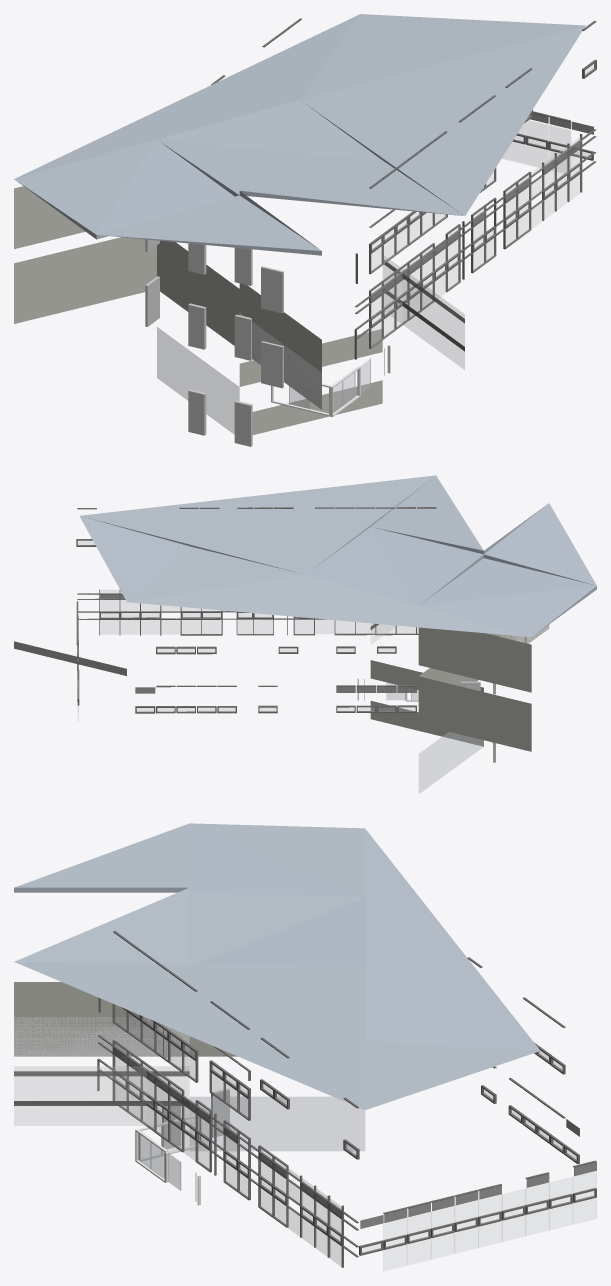
Rendered from pt-111-puesto-mando-shell-p01-v00.glb.
The picture shows the model from 3 angles, top to bottom: view 1: azimuth 30°, elevation 25°; view 2: azimuth 150°, elevation 25°; view 3: azimuth 270°, elevation 25°; orthographic projection. The views are drawn at different scales.
Visible parts, largest first — view 1: object 5, object 1, object 2, 3ioDEoahHCkv_6SYuJ4ZAV, 0nQIrlJzzFI8NX_dCCofL4, 1wMK2SYVT58xjKWZulY_vP, 1iMmaQhIvEGOZznnch$208, 0Eoh26nKPAUfThwFjukyFs, 1iMmaQhIvEGOZznnch$209, 0iETQbyE963AVzBjGTvqFN, 2tE$VhLkrEvu2KToKUG4Qr; view 2: object 5, object 1, object 4; view 3: object 5, object 1, object 2, object 4, object 3, 0Eoh26nKPAUfThwFjukyFs.
Part boxes in pixels (bbox=[...]): object 5: bbox=[14, 14, 585, 255]; object 1: bbox=[14, 186, 382, 434]; object 2: bbox=[383, 256, 464, 369]; 3ioDEoahHCkv_6SYuJ4ZAV: bbox=[261, 341, 283, 388]; 0nQIrlJzzFI8NX_dCCofL4: bbox=[261, 266, 283, 313]; 1wMK2SYVT58xjKWZulY_vP: bbox=[234, 400, 252, 446]; 1iMmaQhIvEGOZznnch$208: bbox=[188, 303, 206, 349]; 0Eoh26nKPAUfThwFjukyFs: bbox=[188, 389, 206, 435]; 1iMmaQhIvEGOZznnch$209: bbox=[234, 314, 252, 360]; 0iETQbyE963AVzBjGTvqFN: bbox=[234, 247, 252, 285]; 2tE$VhLkrEvu2KToKUG4Qr: bbox=[145, 276, 159, 326]; object 5: bbox=[79, 475, 596, 637]; object 1: bbox=[370, 624, 549, 793]; object 4: bbox=[14, 641, 126, 675]; object 5: bbox=[14, 823, 540, 1109]; object 1: bbox=[14, 982, 364, 1150]; object 2: bbox=[14, 1066, 189, 1125]; object 4: bbox=[14, 1071, 189, 1076]; object 3: bbox=[14, 1101, 181, 1105]; 0Eoh26nKPAUfThwFjukyFs: bbox=[211, 1088, 229, 1137].
Bounding box in the file's own units: 32.41 × 13.55 × 26.56.
